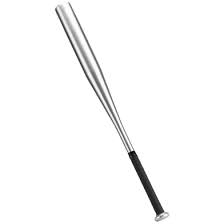baseball bat: (53, 1, 169, 222)
